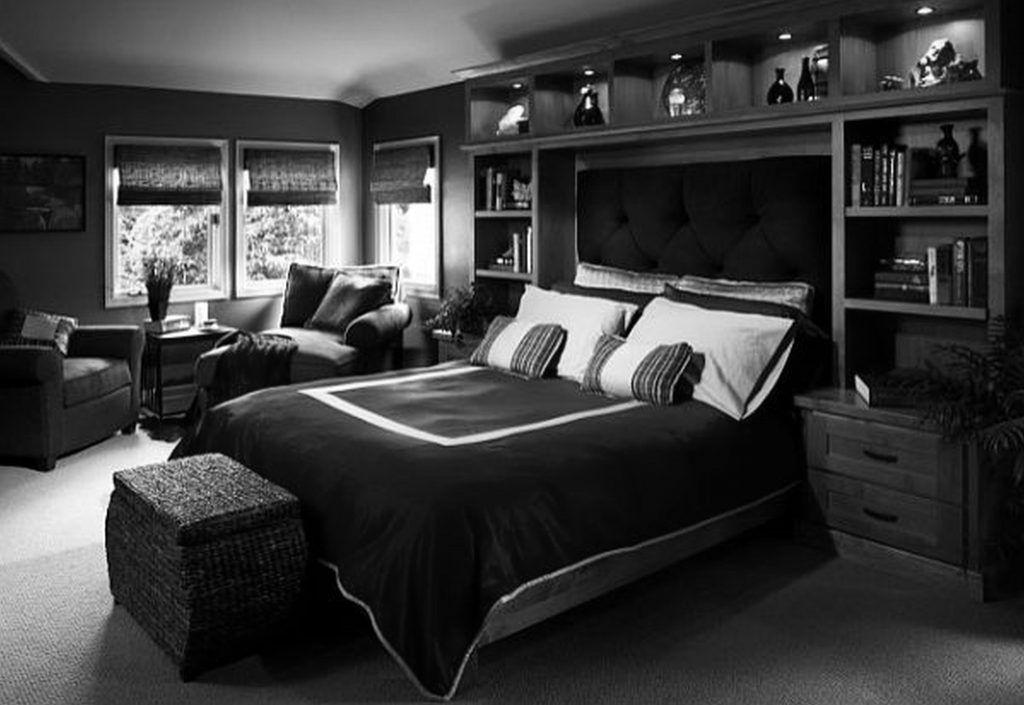bed: (210, 245, 832, 630)
